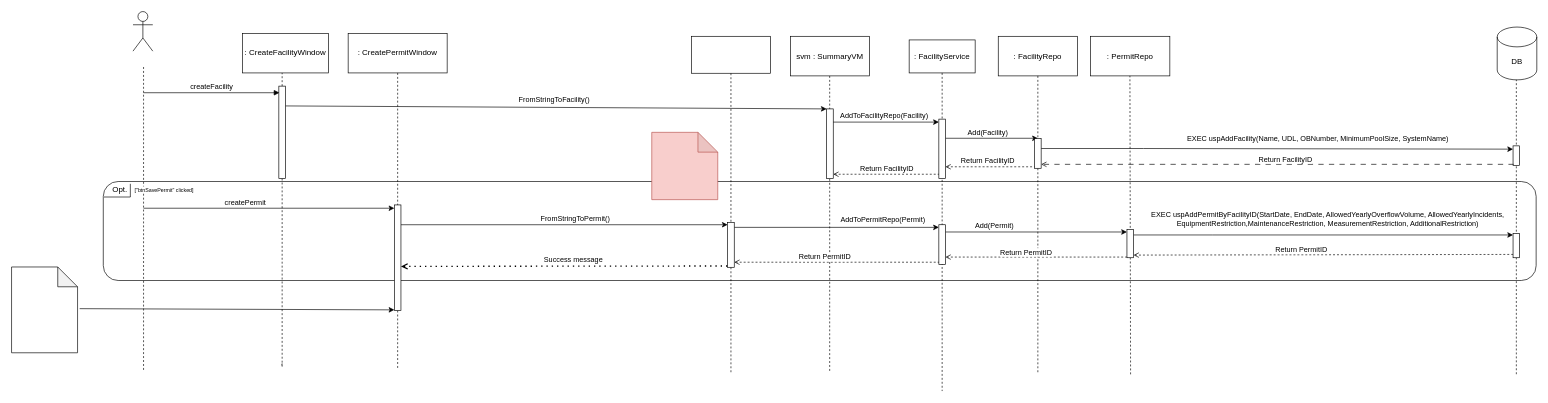
Some shapes in this 1548 by 403 pixel diagram are drawn without their labels. Here are the shapes that lost their labels. From the top down, the centre of each, then its label:
(x=142, y=31): User
(x=684, y=166): svm sætter en facility, der bruges i contructor'en til vm, hvordan vises dette?
(x=731, y=204): vm : SummaryVM
(x=44, y=309): From here SD "openSummary" executes
